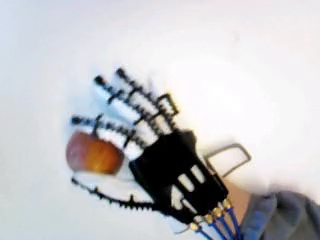apple: (65, 126, 126, 178)
hand: (70, 67, 230, 234)
